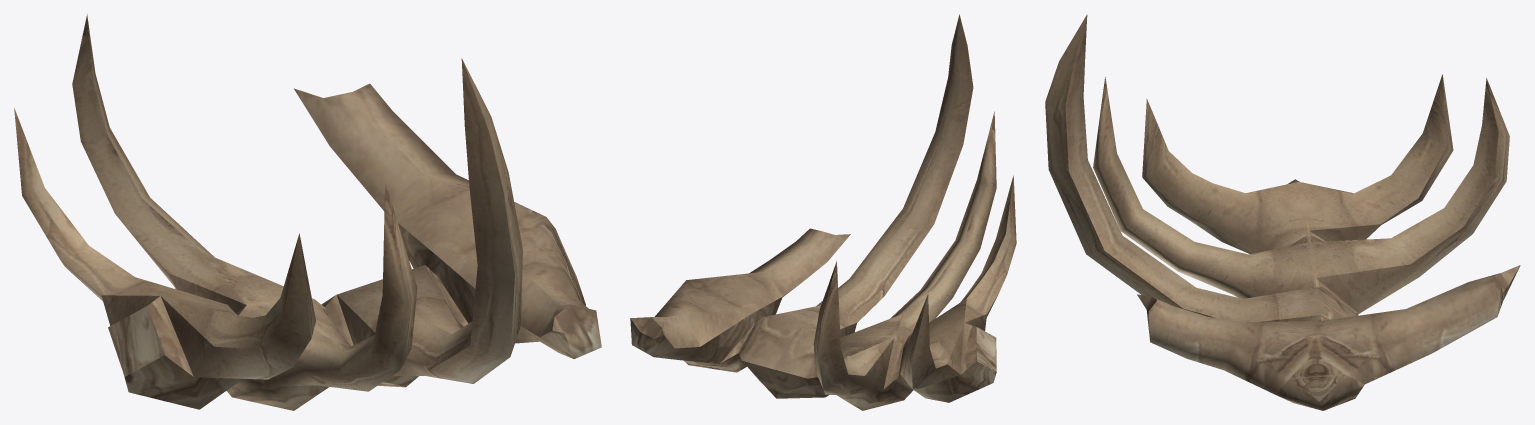
File: Item_5007_gutou_001.FBX
The picture shows the model from 3 angles, left to right: view 1: azimuth 30°, elevation 25°; view 2: azimuth 150°, elevation 25°; view 3: azimuth 270°, elevation 25°; orthographic projection. The views are drawn at different scales.
Parts seen in each view (by area): view 1: Item_5007_gutou_001; view 2: Item_5007_gutou_001; view 3: Item_5007_gutou_001.
Part boxes in pixels (x1=…): Item_5007_gutou_001: x1=14, y1=14, x2=601, y2=410; Item_5007_gutou_001: x1=630, y1=14, x2=1016, y2=410; Item_5007_gutou_001: x1=1045, y1=14, x2=1520, y2=410.
Size of the model in its own units: 149 by 138 by 183.
